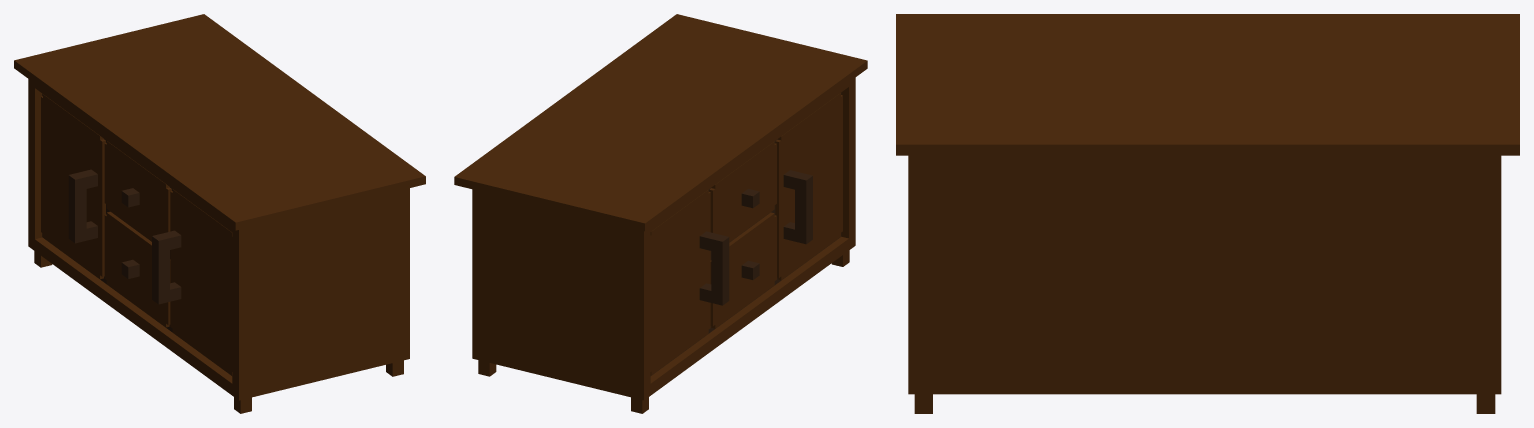
Rendered from tv cabinet.obj.
The picture shows the model from 3 angles, left to right: view 1: azimuth 30°, elevation 25°; view 2: azimuth 150°, elevation 25°; view 3: azimuth 270°, elevation 25°; orthographic projection. The views are drawn at different scales.
Size of the model in its own units: 5.3 by 5 by 10.1.
1 material, 1 textured.
